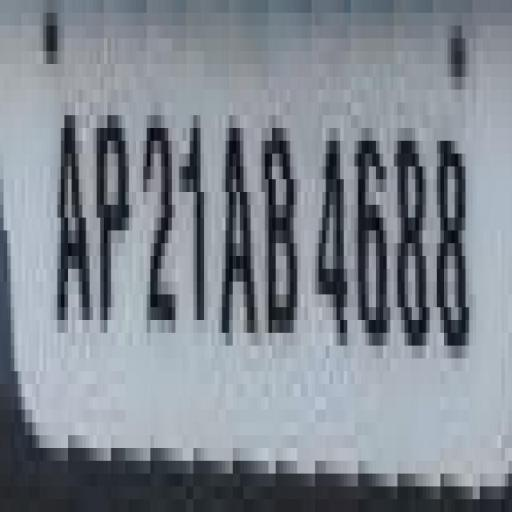number plate: (17, 0, 512, 473)
